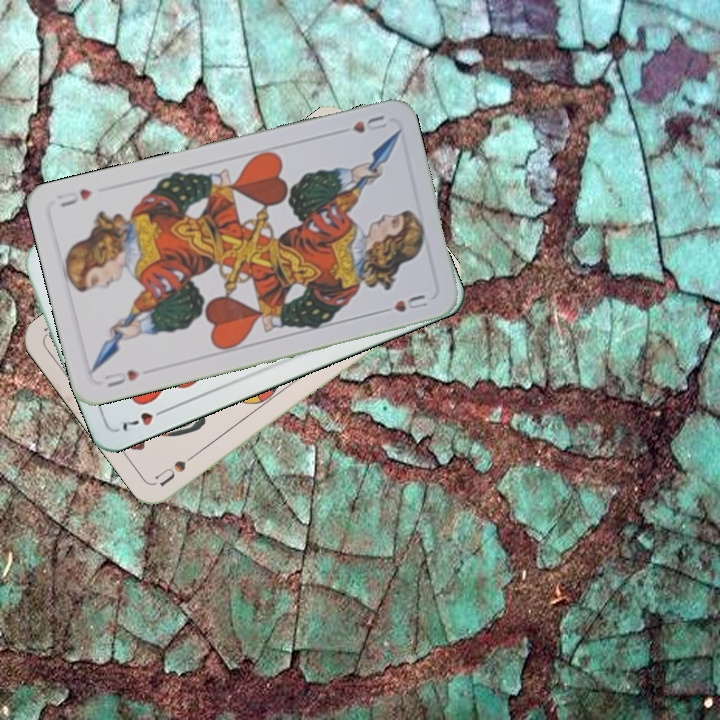H7: (115, 403, 172, 434)
HU: (348, 111, 390, 137), (100, 365, 142, 390)
SU: (151, 445, 205, 490)
